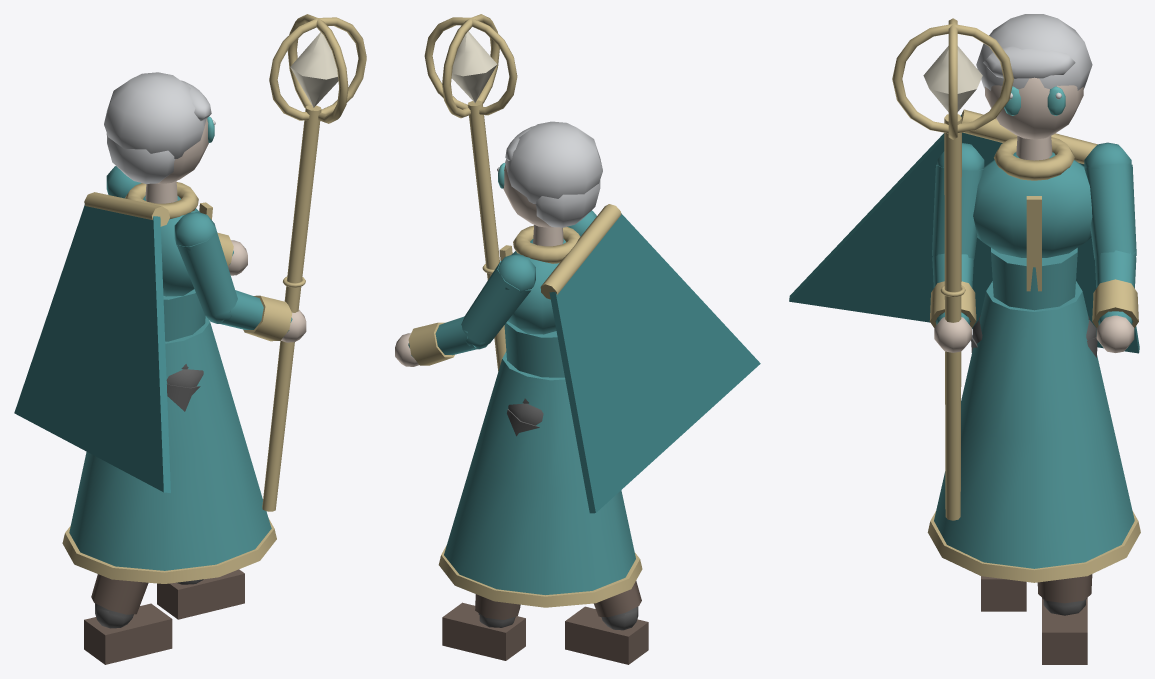
Rendered from ally_6_time_keeper.glb.
3 renders of one model, left to right at view 1: azimuth 30°, elevation 25°; view 2: azimuth 150°, elevation 25°; view 3: azimuth 270°, elevation 25°, orthographic. The views are drawn at different scales.
Parts seen in each view (by area): view 1: Cape, Hips, Weapon, Head, ArmR, LegR, Torso, LegL, ArmL; view 2: Cape, Hips, Head, Weapon, ArmL, Torso, LegL, LegR; view 3: Hips, Cape, Torso, Weapon, Head, ArmL, ArmR, LegL, LegR.
Part boxes in pixels (<box>): Cape: <box>14,192,170,492</box>; Hips: <box>62,316,276,583</box>; Weapon: <box>262,14,366,511</box>; Head: <box>104,72,215,183</box>; ArmR: <box>174,212,306,342</box>; LegR: <box>84,369,203,664</box>; Torso: <box>125,181,212,369</box>; LegL: <box>157,569,244,619</box>; ArmL: <box>106,166,247,275</box>; Cape: <box>540,204,760,513</box>; Hips: <box>438,351,642,607</box>; Head: <box>497,121,602,227</box>; Weapon: <box>424,14,517,371</box>; ArmL: <box>395,254,535,366</box>; Torso: <box>499,225,580,403</box>; LegL: <box>442,403,543,660</box>; LegR: <box>565,581,648,664</box>; Hips: <box>927,281,1140,582</box>; Cape: <box>789,109,1139,353</box>; Torso: <box>973,136,1092,319</box>; Weapon: <box>892,18,1013,520</box>; Head: <box>976,14,1092,139</box>; ArmL: <box>1084,142,1138,352</box>; ArmR: <box>929,143,984,352</box>; LegL: <box>1037,320,1097,664</box>; LegR: <box>971,319,1026,611</box>.
Size of the model in its own units: 1.37 by 2.86 by 1.39.
